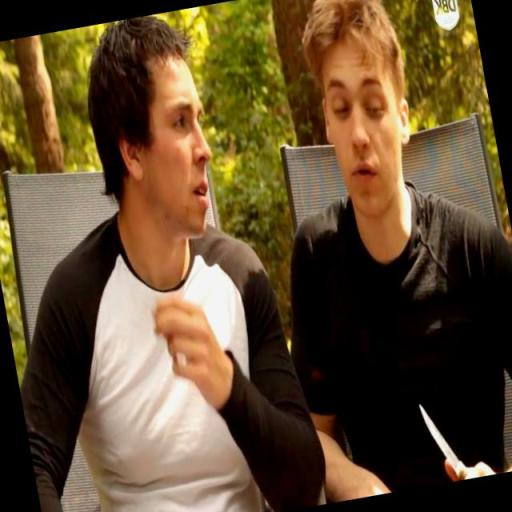knife: (408, 386, 480, 486)
